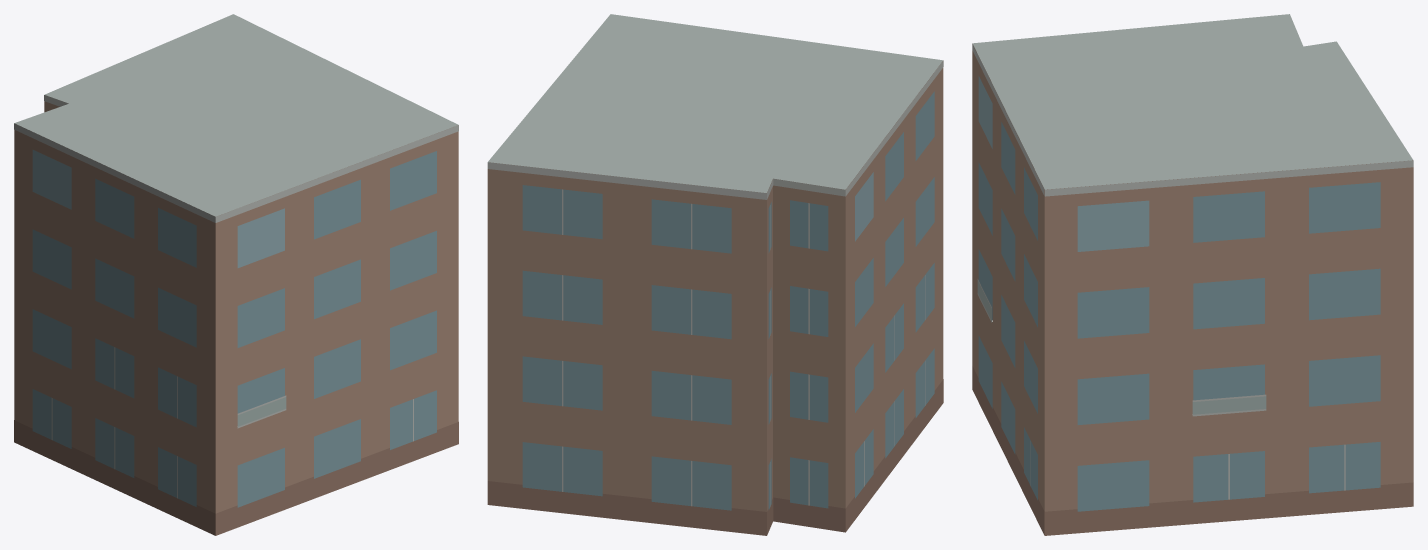
File: survey-upis-32835963.glb
3 renders of one model, left to right at view 1: azimuth 30°, elevation 25°; view 2: azimuth 150°, elevation 25°; view 3: azimuth 270°, elevation 25°, orthographic. The views are drawn at different scales.
Visible parts, largest first — view 1: survey-upis-32835963.tmp; view 2: survey-upis-32835963.tmp; view 3: survey-upis-32835963.tmp.
Boxes of the visible parts, box(x1,y1,x2,y2) form: survey-upis-32835963.tmp: box(14, 14, 458, 535); survey-upis-32835963.tmp: box(487, 14, 943, 535); survey-upis-32835963.tmp: box(972, 14, 1413, 535).
Bounding box in the file's own units: 13.28 × 12.2 × 14.1.
